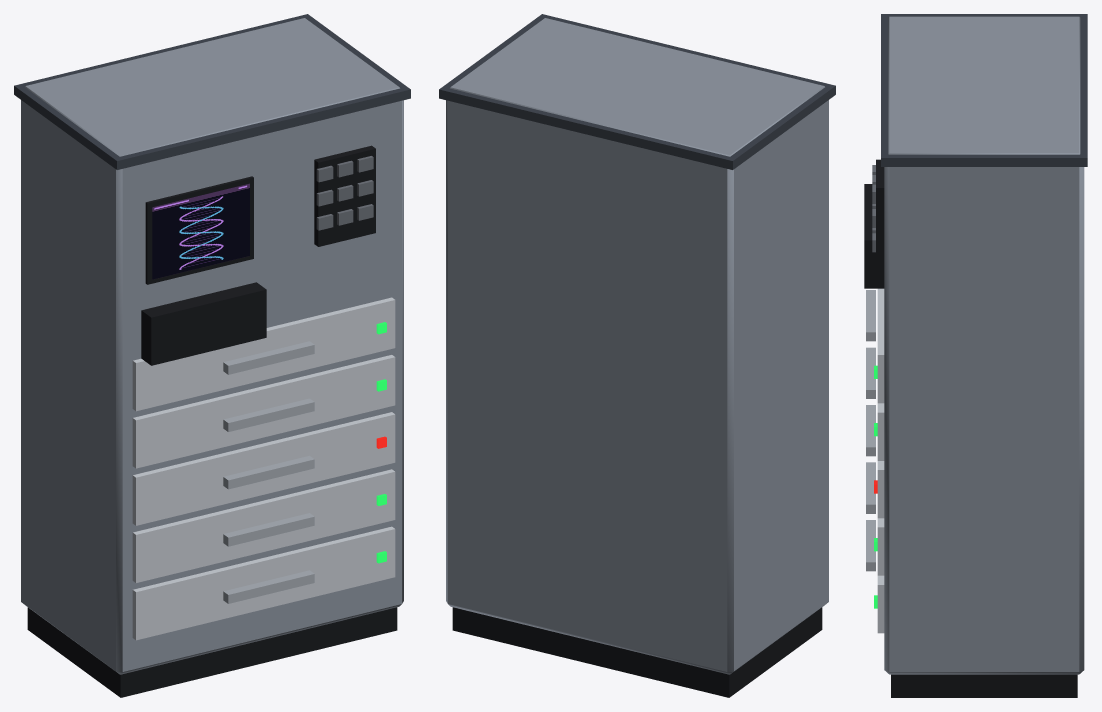
File: medcabinet_drug_dispensing_cabinet.glb
3 renders of one model, left to right at view 1: azimuth 30°, elevation 25°; view 2: azimuth 150°, elevation 25°; view 3: azimuth 270°, elevation 25°, orthographic.
Parts seen in each view (by area): view 1: medcabinet_drug_dispensing_cabinet; view 2: medcabinet_drug_dispensing_cabinet; view 3: medcabinet_drug_dispensing_cabinet.
Boxes of the visible parts, x1,y1,x2,y2 form: medcabinet_drug_dispensing_cabinet: (14, 14, 410, 697); medcabinet_drug_dispensing_cabinet: (439, 14, 835, 697); medcabinet_drug_dispensing_cabinet: (864, 14, 1087, 697).
Bounding box in the file's own units: 1.02 × 1.8 × 0.67.
9 materials, 1 textured.
